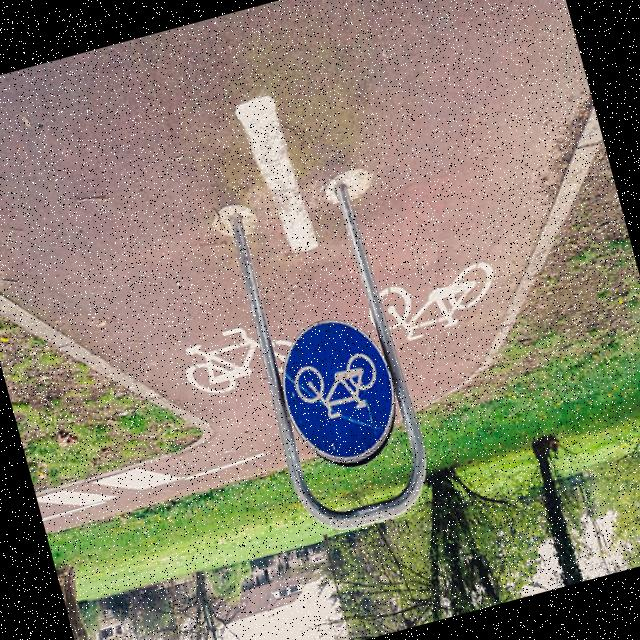bicycle: (262, 302, 417, 472)
